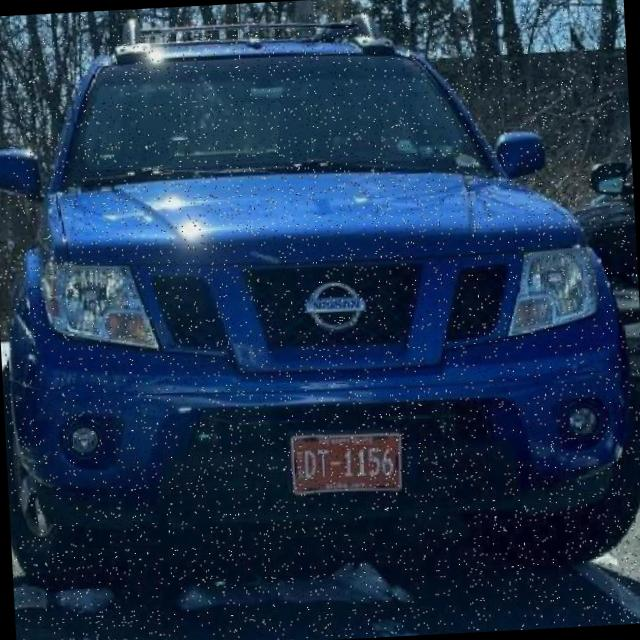LicensePlate: (291, 431, 402, 495)
